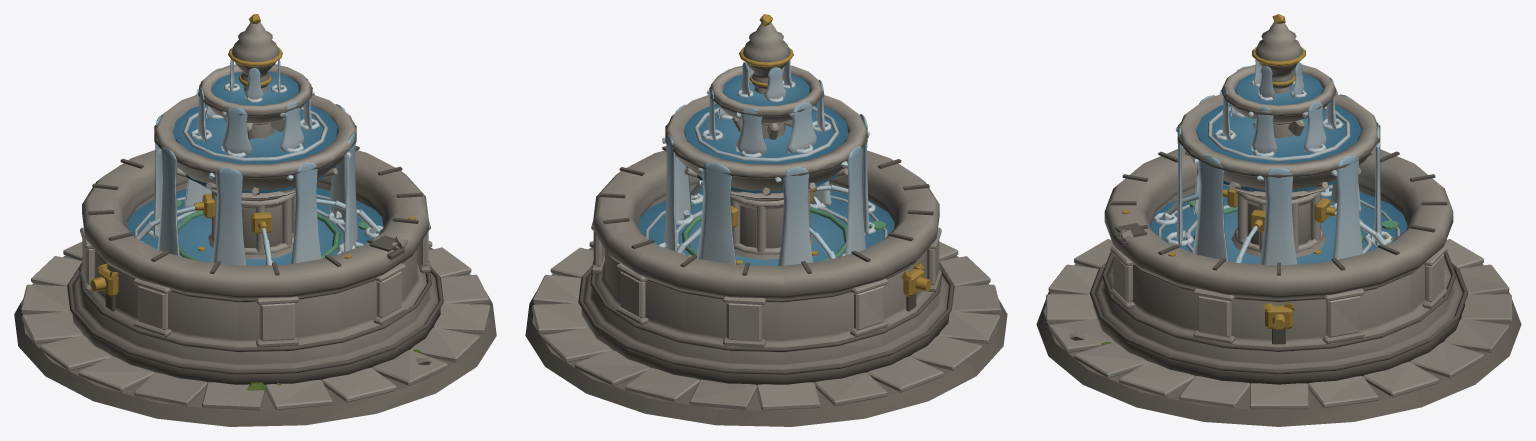
Rendered from park_fountain_01.glb.
The picture shows the model from 3 angles, left to right: view 1: azimuth 30°, elevation 25°; view 2: azimuth 150°, elevation 25°; view 3: azimuth 270°, elevation 25°; orthographic projection.
Parts seen in each view (by area): view 1: park_fountain_01; view 2: park_fountain_01; view 3: park_fountain_01.
Part boxes in pixels (x1,y1,x2,y2): park_fountain_01: [14, 14, 496, 426]; park_fountain_01: [525, 14, 1007, 426]; park_fountain_01: [1036, 14, 1521, 426].
Bounding box in the file's own units: 4.12 × 2.91 × 4.12.
